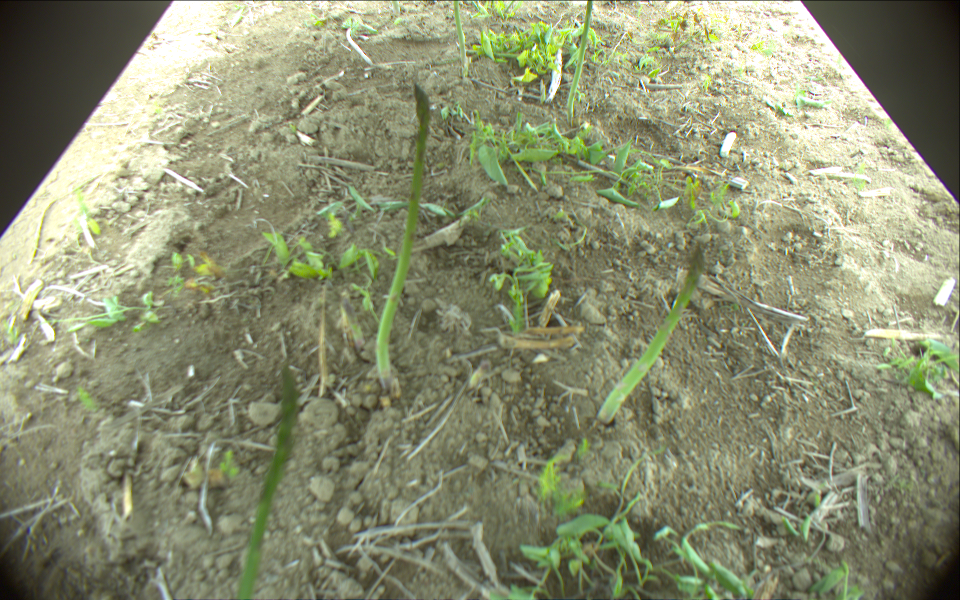aspa: (596, 243, 705, 426), (375, 84, 429, 390), (235, 363, 297, 600), (26, 167, 135, 265), (567, 1, 593, 119), (450, 1, 467, 61), (390, 1, 400, 13)
